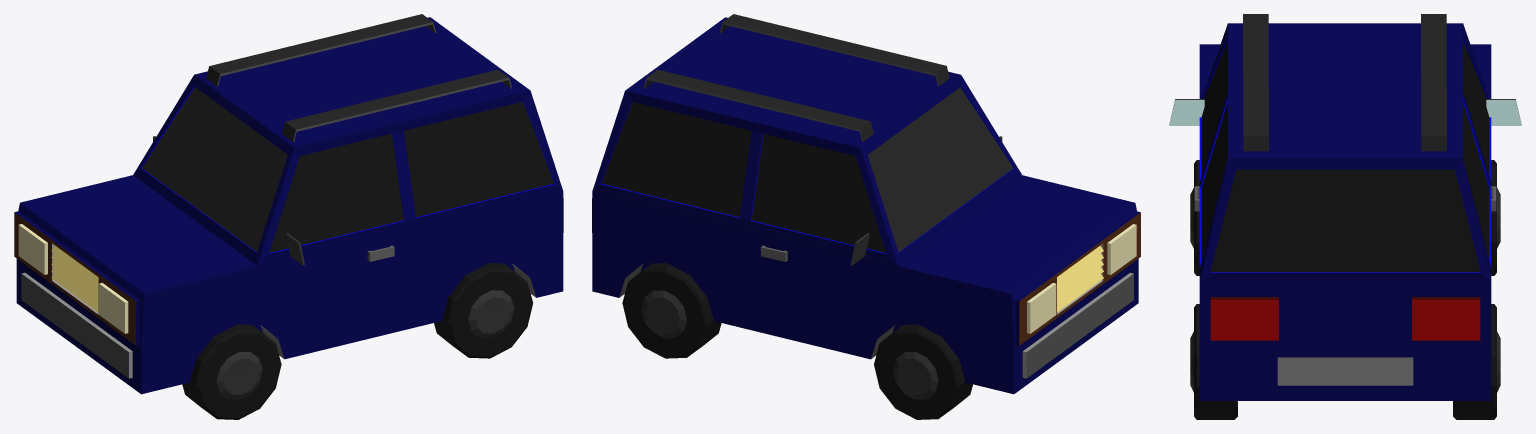
The model's file is SUV.glb.
3 views of the same model, side by side, from view 1: azimuth 30°, elevation 25°; view 2: azimuth 150°, elevation 25°; view 3: azimuth 270°, elevation 25° (orthographic). The views are drawn at different scales.
Visible parts, largest first — view 1: SUV; view 2: SUV; view 3: SUV.
Part boxes in pixels (<box>): SUV: <box>14,14,563,419</box>; SUV: <box>592,14,1140,419</box>; SUV: <box>1169,14,1521,419</box>.
Size of the model in its own units: 3.02 by 1.71 by 1.81.
1 material, 1 textured.
